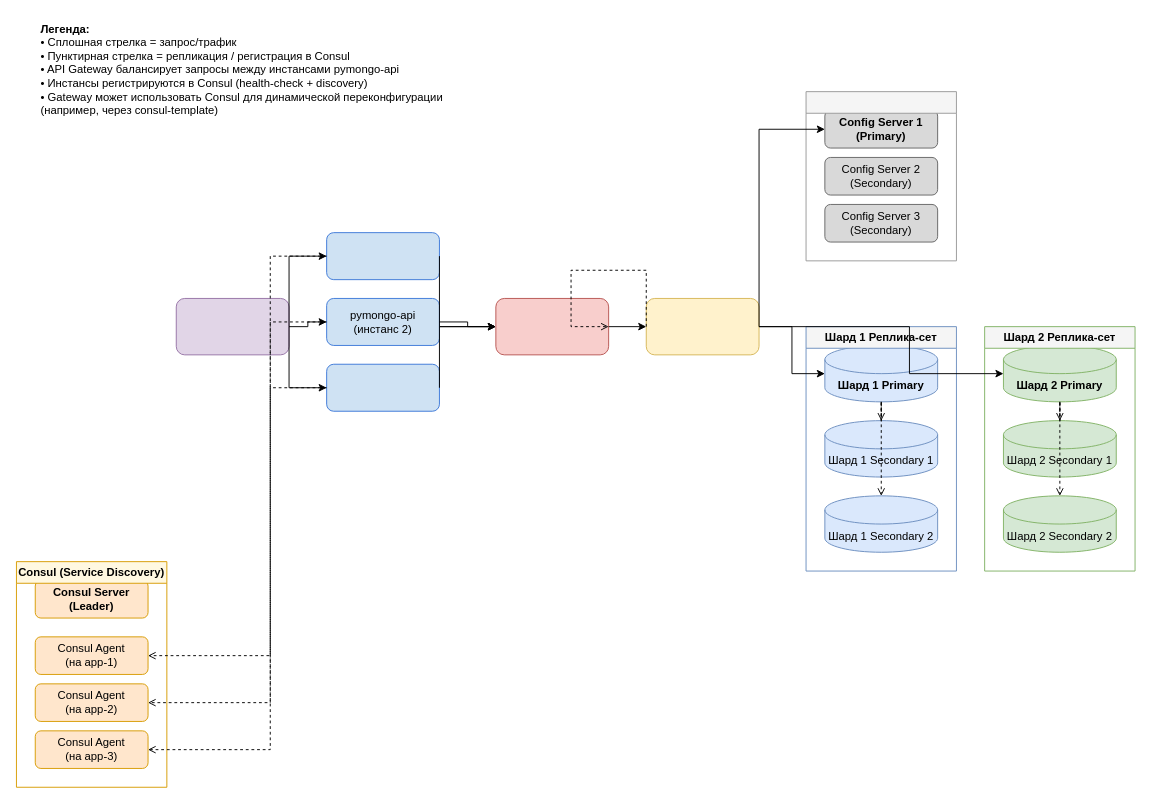
This 1152x804 diagram has some shape labels left out. Here are the shapes that lost their labels. From the top down, the centre of each, then its label:
At pixel 880 176: "Конфиг-реплика-сет".
At pixel 382 256: "pymongo-api (инстанс 1)".
At pixel 232 326: "API Gateway (Traefik / Fabio / Nginx+Consul)".
At pixel 552 326: "Redis (Кеш)".
At pixel 702 326: "mongos (роутер запросов)".
At pixel 382 387: "pymongo-api (инстанс 3)".
